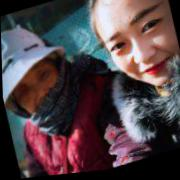NONE: (95, 1, 180, 104)
WRONG: (8, 55, 74, 132)
